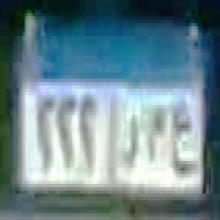2: (79, 90, 101, 175), (56, 86, 77, 174), (32, 92, 54, 176)
ain: (170, 96, 199, 184)
meem: (144, 100, 168, 172)
raa: (117, 107, 139, 175)
